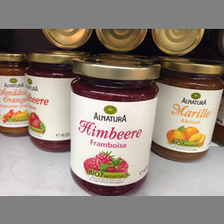jam: (71, 57, 161, 195), (152, 56, 222, 162), (24, 50, 74, 152), (1, 53, 28, 137)
